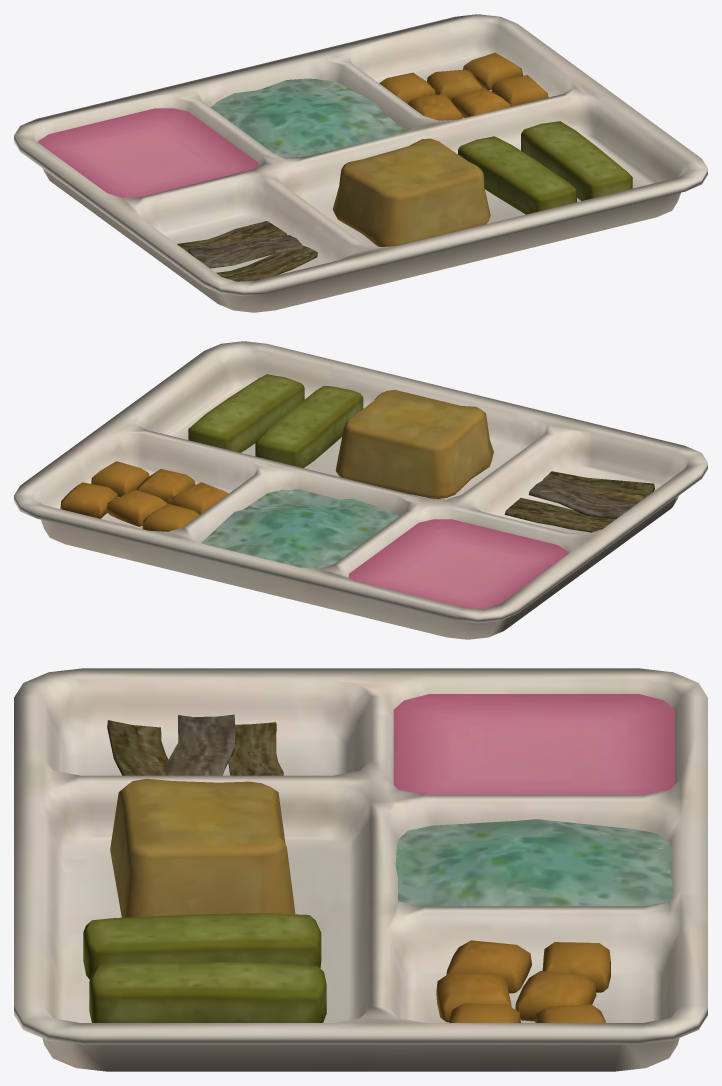
3 renders of one model, top to bottom at view 1: azimuth 30°, elevation 25°; view 2: azimuth 150°, elevation 25°; view 3: azimuth 270°, elevation 25°, orthographic. The views are drawn at different scales.
Bounding box in the file's own units: 7.97 × 0.9231 × 6.38.
1 material, 1 textured.
